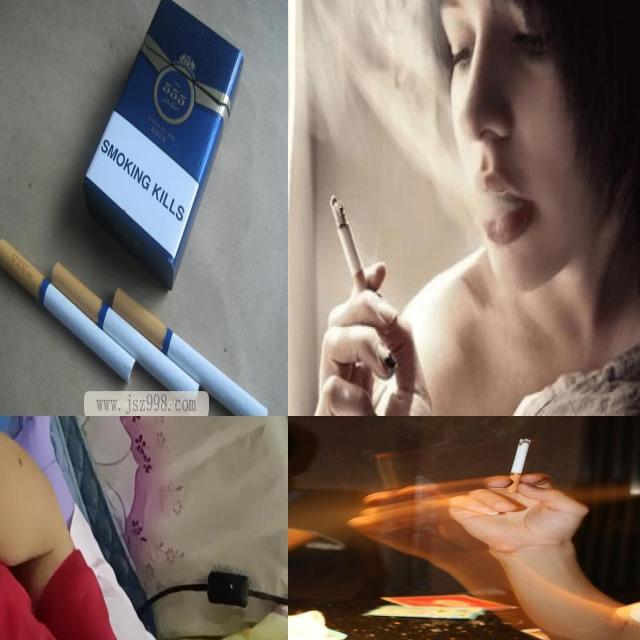cigarette: (50, 262, 200, 404), (112, 286, 269, 415), (0, 237, 136, 384), (330, 195, 368, 294), (502, 436, 538, 494)
